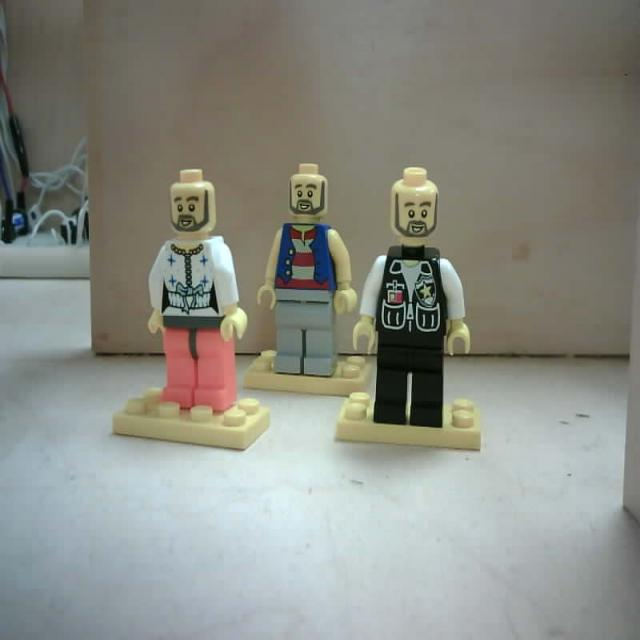Lego-People: (112, 169, 272, 451), (332, 166, 485, 460), (242, 163, 374, 397)
